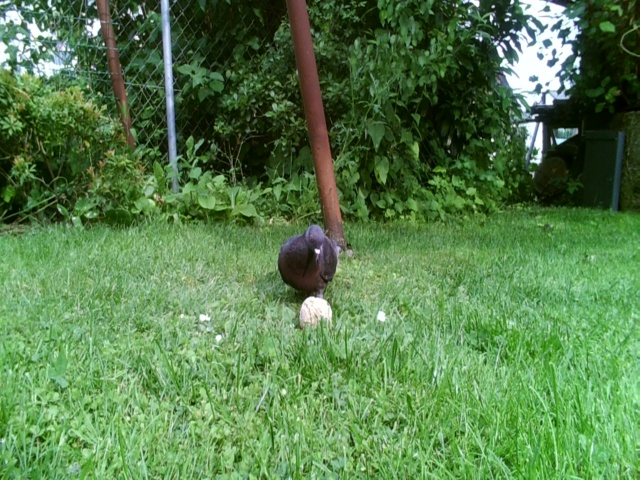Pigeon: (268, 223, 349, 299)
